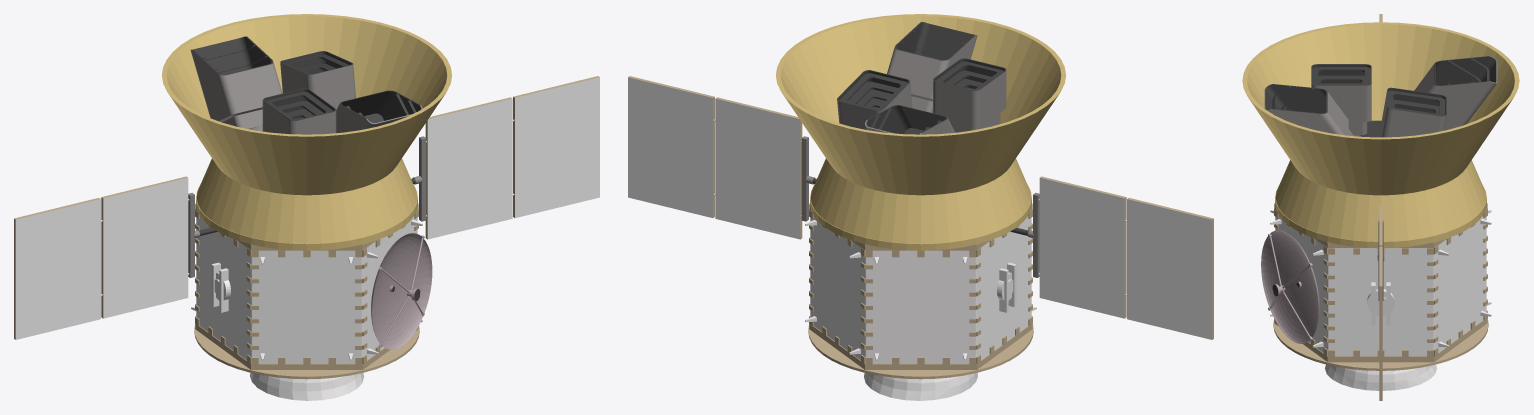
The model's file is space-tess.glb.
The picture shows the model from 3 angles, left to right: view 1: azimuth 30°, elevation 25°; view 2: azimuth 150°, elevation 25°; view 3: azimuth 270°, elevation 25°; orthographic projection. The views are drawn at different scales.
Parts seen in each view (by area): view 1: Layer_0; view 2: Layer_0; view 3: Layer_0.
Boxes of the visible parts, box(x1,y1,x2,y2) form: Layer_0: box(14, 14, 599, 400); Layer_0: box(628, 14, 1213, 400); Layer_0: box(1242, 14, 1519, 400).
Size of the model in its own units: 37.1 by 18.27 by 15.97.
3 materials, 3 textured.
